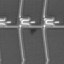dust: (29, 28, 36, 34)
